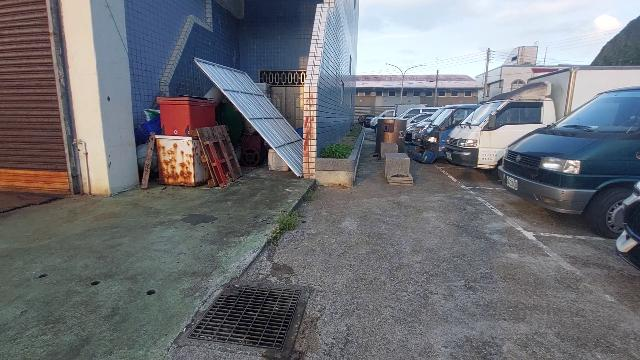pollute: (196, 126, 244, 186), (155, 135, 207, 186), (158, 98, 217, 136), (140, 131, 158, 188), (242, 129, 263, 166), (137, 108, 157, 139), (267, 147, 289, 171), (136, 142, 147, 169)
